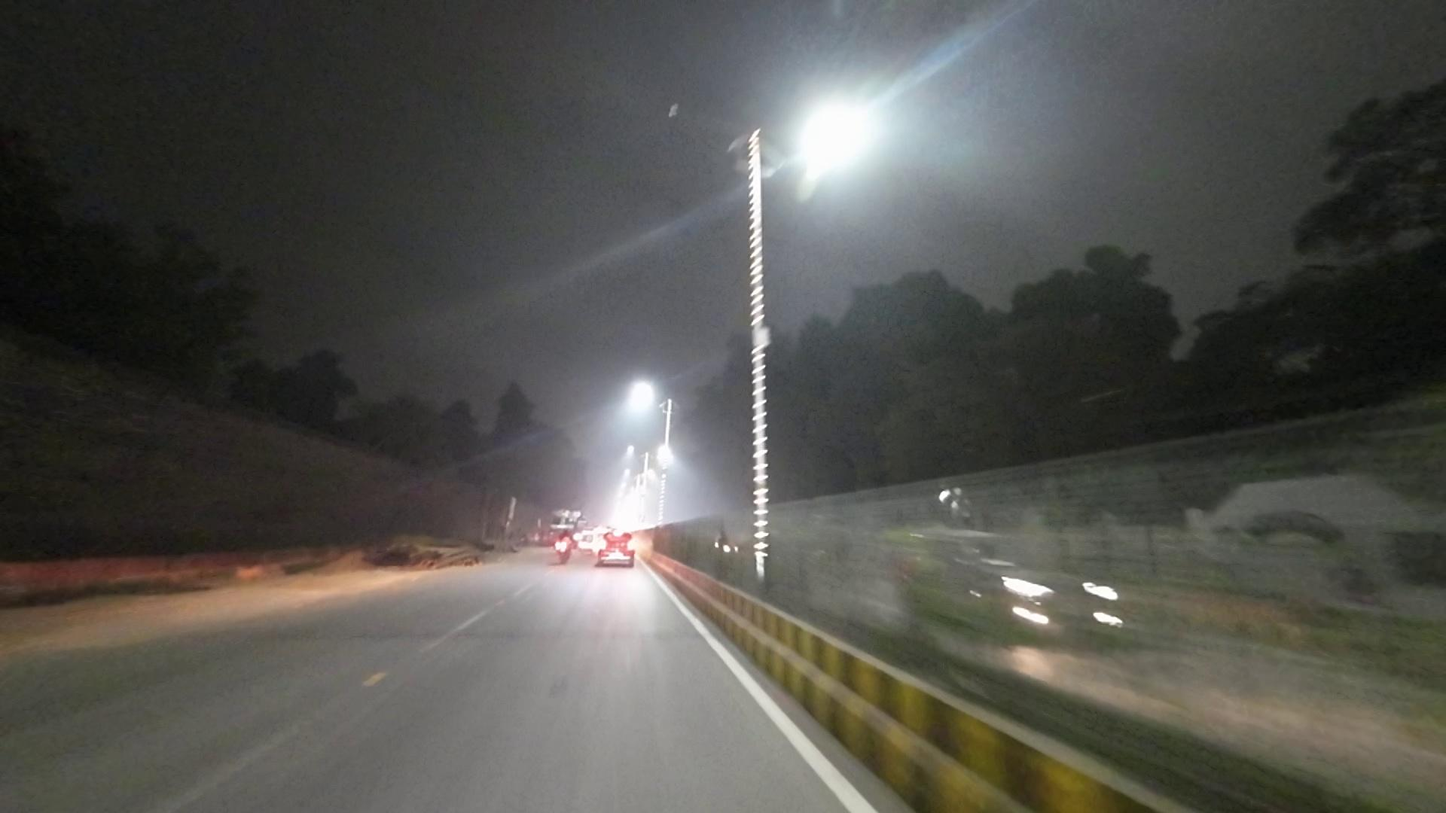streetlight: (661, 100, 714, 128)
